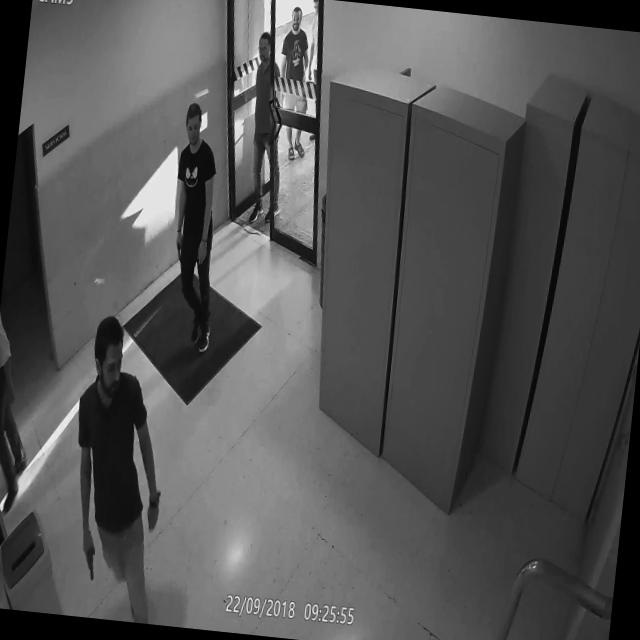gun: (80, 542, 100, 584), (172, 228, 186, 264)
person: (236, 22, 298, 228), (268, 2, 322, 164)
person with a gun: (53, 308, 184, 624), (158, 97, 250, 354)
